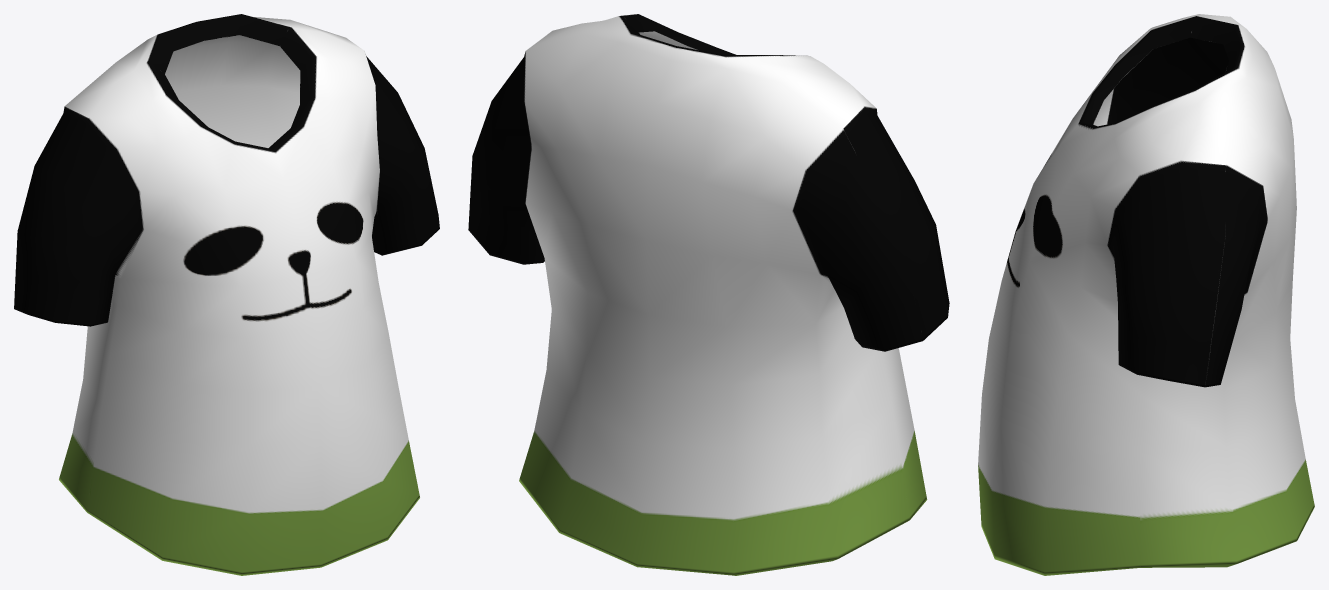
Rendered from AF_M_Jacket_06.fbx.
3 views of the same model, side by side, from view 1: azimuth 30°, elevation 25°; view 2: azimuth 150°, elevation 25°; view 3: azimuth 270°, elevation 25° (orthographic). The views are drawn at different scales.
Parts seen in each view (by area): view 1: AF_M_Jacket_06; view 2: AF_M_Jacket_06; view 3: AF_M_Jacket_06.
Part boxes in pixels (<box>): AF_M_Jacket_06: <box>14,14,439,575</box>; AF_M_Jacket_06: <box>468,14,949,575</box>; AF_M_Jacket_06: <box>978,14,1314,575</box>.
Size of the model in its own units: 469 by 497 by 316.
